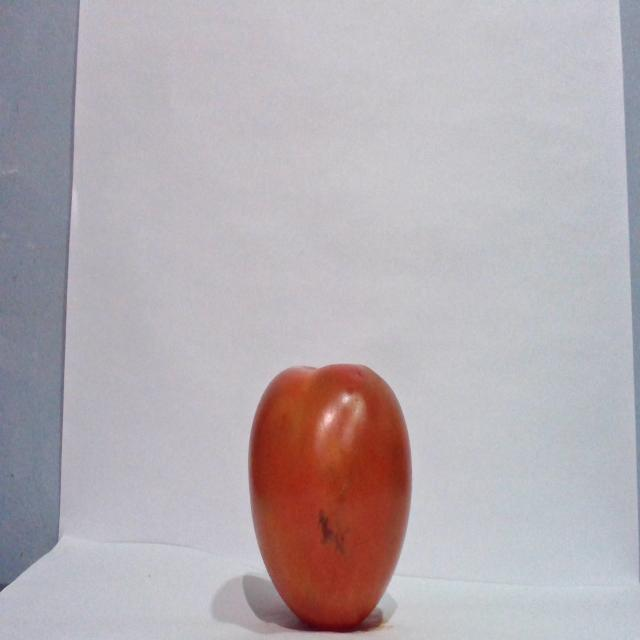Red: (246, 361, 413, 630)
